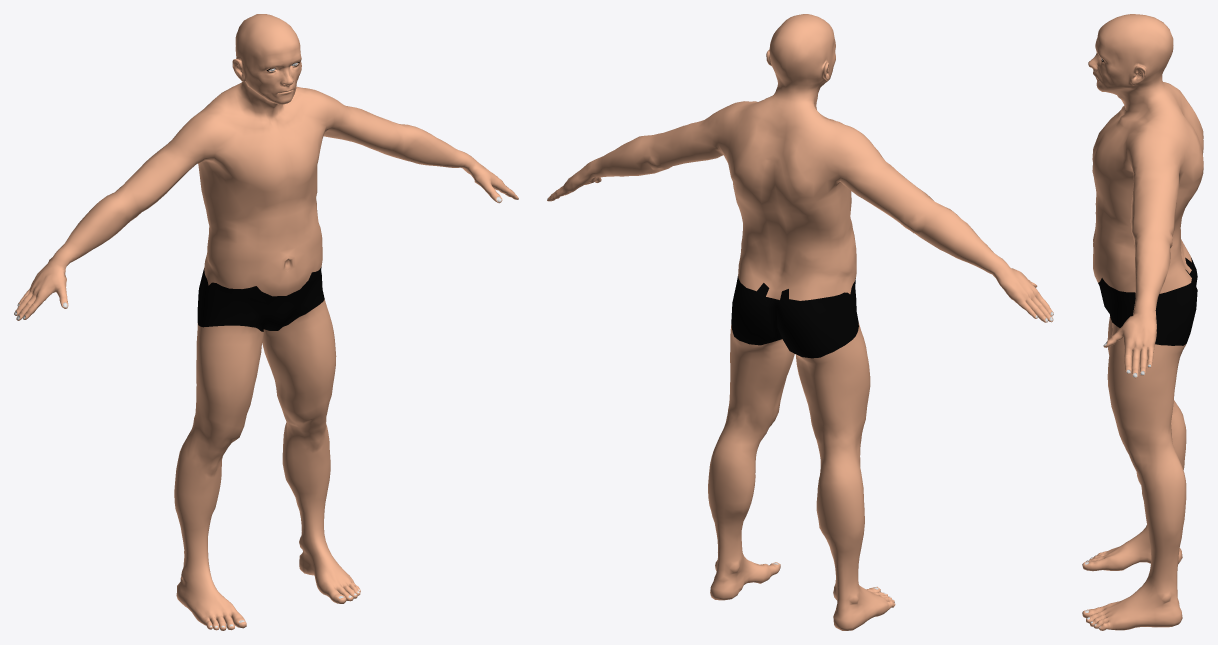
The model's file is human.dae.
3 views of the same model, side by side, from view 1: azimuth 30°, elevation 25°; view 2: azimuth 150°, elevation 25°; view 3: azimuth 270°, elevation 25° (orthographic).
Parts seen in each view (by area): view 1: mb_male; view 2: mb_male; view 3: mb_male.
Part boxes in pixels (x1=…): mb_male: x1=14, y1=14, x2=518, y2=630; mb_male: x1=547, y1=14, x2=1053, y2=630; mb_male: x1=1082, y1=14, x2=1203, y2=630.
Size of the model in its own units: 1.49 by 0.315 by 1.65.
